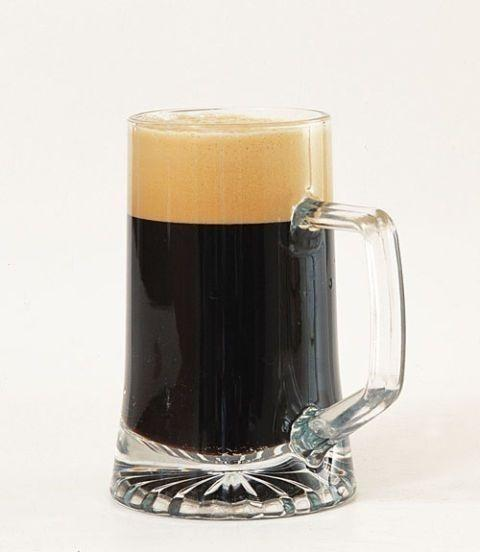glass-mug: (105, 95, 414, 534)
